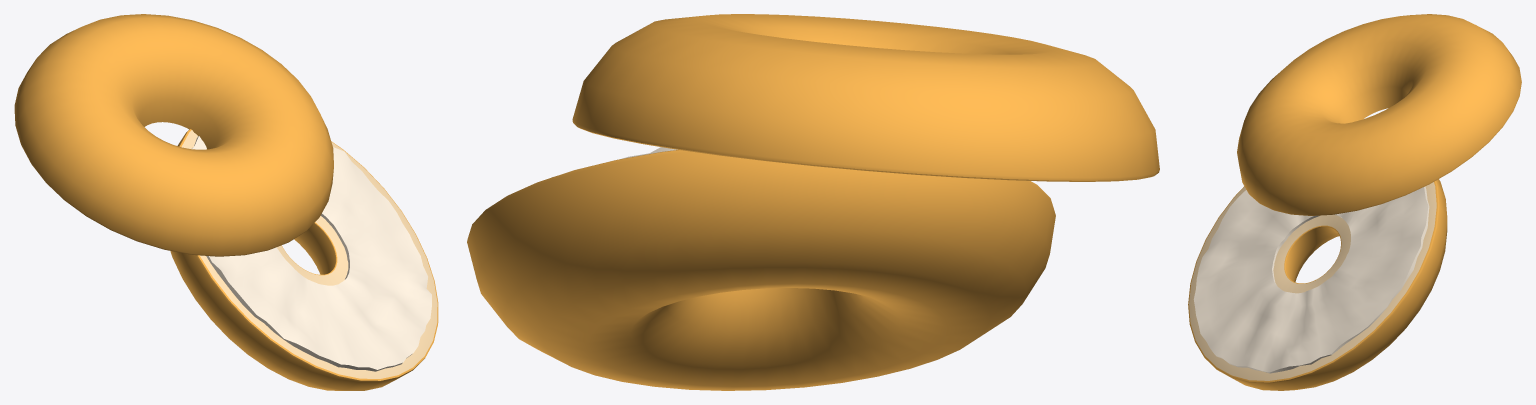
Rendered from bagel.gltf.
3 views of the same model, side by side, from view 1: azimuth 30°, elevation 25°; view 2: azimuth 150°, elevation 25°; view 3: azimuth 270°, elevation 25° (orthographic). The views are drawn at different scales.
Parts seen in each view (by area): view 1: Torus.001; view 2: Torus.001; view 3: Torus.001.
Part boxes in pixels (x1,y1,x2,y2): Torus.001: (14, 14, 438, 390); Torus.001: (467, 14, 1159, 390); Torus.001: (1188, 14, 1521, 390).
Size of the model in its own units: 2.36 by 1.85 by 2.03.
Materials: 1 (1 with a texture image).
